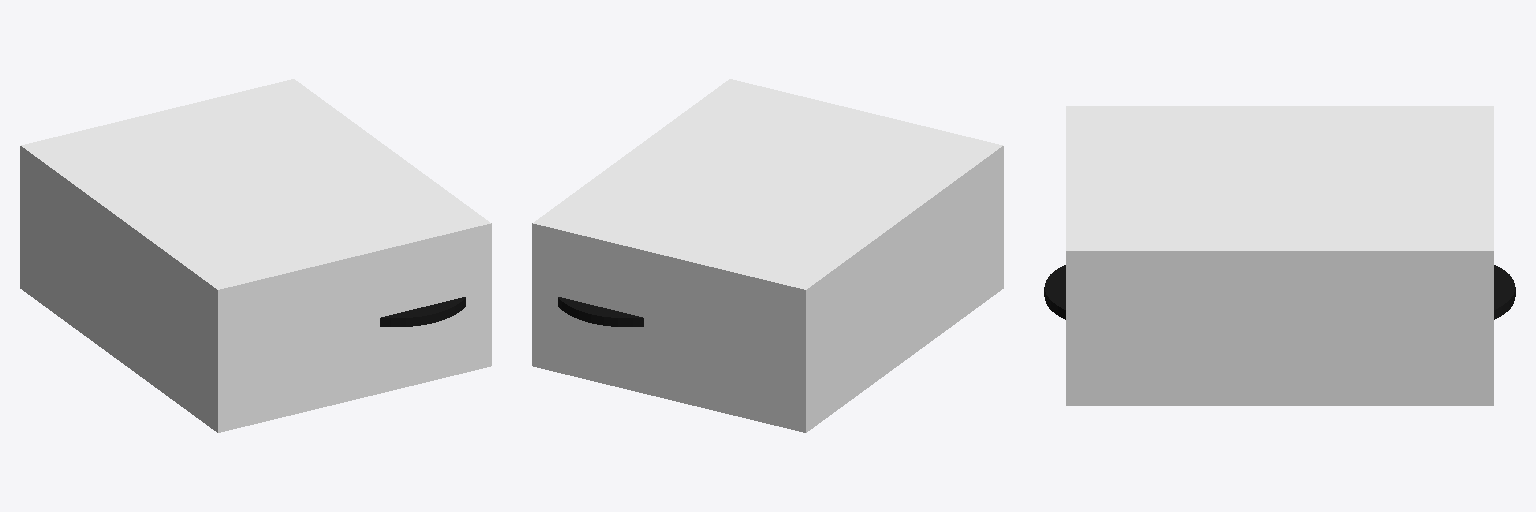
The robot description file, URDF, robot "drone":
<?xml version="1.0"?>
<robot name="drone">

  <material name="transparent">
    <color rgba="1 1 1 0.05"/>
  </material>

  <material name="black">
    <color rgba="0 0 0 1"/>
  </material>

  <material name="green">
    <color rgba="0 1 0 1"/>
  </material>

  <material name="gray">
    <color rgba="0.13 0.13 0.13 0.8"/>
  </material>

  <link name="base_link">
    <visual>
      <geometry>
        <box size="0.32 0.4 0.16"/>
      </geometry>
      <material name="transparent"/>
    </visual>
  </link>

  <link name="frame">
    <visual>
      <geometry>
        <box size="0.2 0.07 0.06"/>
      </geometry>
      <origin xyz="0.0 0.0 0.02" rpy="0.0 0.0 0.0"/>
      <material name="green" />
    </visual>
  </link>
  <joint name="frame_to_base" type="fixed">
    <parent link="base_link"/>
    <child link="frame"/>
  </joint>

  <link name="front_left">
    <visual>
      <geometry>
        <cylinder radius="0.075" length="0.01"/>
      </geometry>
      <origin xyz="0.08 -0.145 0.0" rpy="0.0 0.0 0.0"/>
      <material name="gray"/>
    </visual>
  </link>
  <joint name="prop_fl_to_frame" type="fixed">
    <parent link="frame"/>
    <child link="front_left"/>
  </joint>

  <link name="front_right">
    <visual>
      <geometry>
        <cylinder radius="0.075" length="0.01"/>
      </geometry>
      <origin xyz="0.08 0.145 0.0" rpy="0.0 0.0 0.0"/>
      <material name="gray"/>
    </visual>
  </link>
  <joint name="prop_fr_to_frame" type="fixed">
    <parent link="frame"/>
    <child link="front_right"/>
  </joint>

  <link name="back_left">
    <visual>
      <geometry>
        <cylinder radius="0.075" length="0.01"/>
      </geometry>
      <origin xyz="-0.08 -0.11 0.0" rpy="0.0 0.0 0.0"/>
      <material name="gray"/>
    </visual>
  </link>
  <joint name="prop_bl_to_frame" type="fixed">
    <parent link="frame"/>
    <child link="back_left"/>
  </joint>

  <link name="back_right">
    <visual>
      <geometry>
        <cylinder radius="0.075" length="0.01"/>
      </geometry>
      <origin xyz="-0.08 0.11 0.0" rpy="0.0 0.0 0.0"/>
      <material name="gray"/>
    </visual>
  </link>
  <joint name="prop_br_to_frame" type="fixed">
    <parent link="frame"/>
    <child link="back_right"/>
  </joint>

  <link name="motor_mount_1">
    <visual>
      <geometry>
        <box size="0.3 0.02 0.003"/>
      </geometry>
      <material name="black" />
      <origin xyz="0.0 0.0 -0.003" rpy="0.0 0.0 0.9"/>
    </visual>
  </link>
  <joint name="mm1_to_frame" type="fixed">
    <parent link="frame"/>
    <child link="motor_mount_1"/>
  </joint>

  <link name="motor_mount_2">
    <visual>
      <geometry>
        <box size="0.3 0.02 0.003"/>
      </geometry>
      <material name="black" />
      <origin xyz="0.0 0.0 -0.003" rpy="0.0 0.0 -0.9"/>
    </visual>
  </link>
  <joint name="mm2_to_frame" type="fixed">
    <parent link="frame"/>
    <child link="motor_mount_2"/>
  </joint>

</robot>

--- What the picture shows (computed from the rendered views, not written in the file) ---
The picture shows the robot from 3 angles, left to right: view 1: azimuth 30°, elevation 25°; view 2: azimuth 150°, elevation 25°; view 3: azimuth 270°, elevation 25°; orthographic projection.
Robot: drone — 8 links, 7 joints (7 fixed); root link base_link; default pose: all joints at 0.
Visible links, largest first — view 1: base_link, front_left; view 2: base_link, front_right; view 3: base_link, front_left, front_right.
Link boxes in pixels (x1,y1,x2,y2): base_link: (20,79,491,432); front_left: (380,297,465,326); base_link: (532,79,1003,432); front_right: (558,297,643,326); base_link: (1066,106,1493,405); front_left: (1044,265,1065,319); front_right: (1494,265,1515,319).
Bounding box of the posed robot: 0.32 × 0.44 × 0.16 m (x, y, z).
Geometry: primitives only (box / cylinder / sphere), no mesh files.